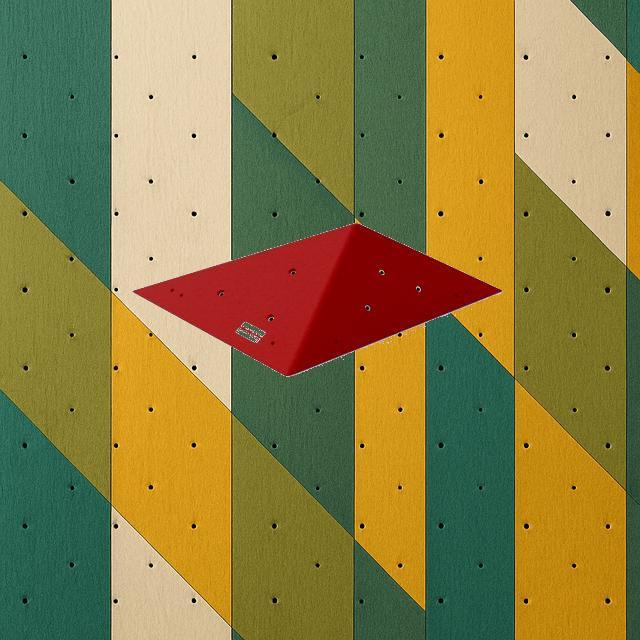Volume: (130, 222, 502, 376)
